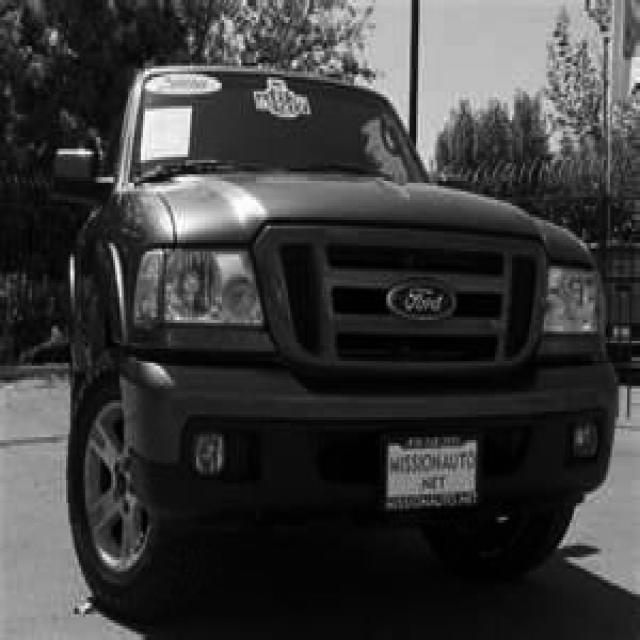car: (49, 60, 619, 626)
